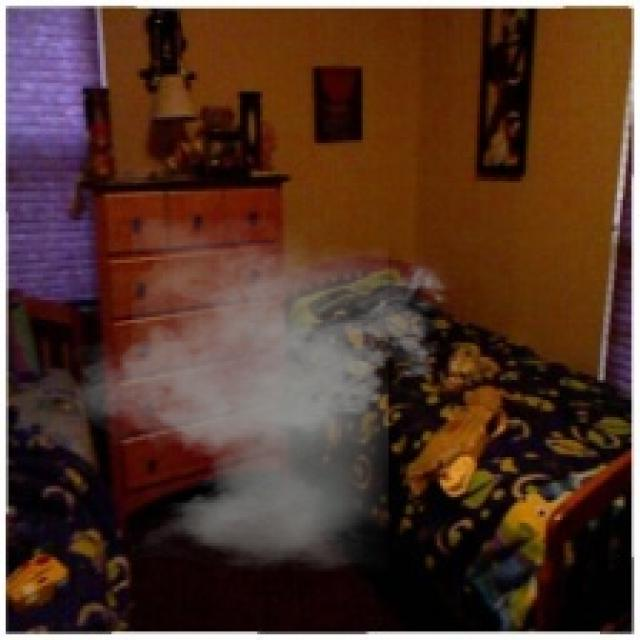smoke: (60, 217, 460, 572)
